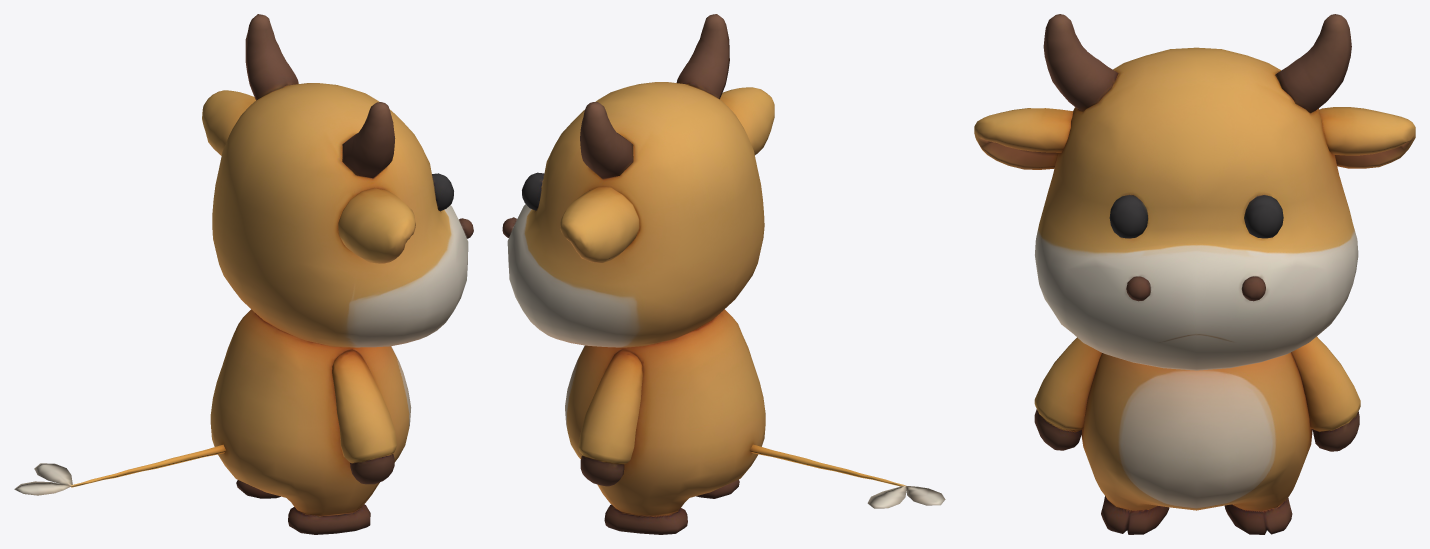
3 views of the same model, side by side, from view 1: azimuth 30°, elevation 25°; view 2: azimuth 150°, elevation 25°; view 3: azimuth 270°, elevation 25° (orthographic). The views are drawn at different scales.
Parts seen in each view (by area): view 1: tripo_node_14f2ad4a-8348-44ea-bd0e-69ca84de6e46; view 2: tripo_node_14f2ad4a-8348-44ea-bd0e-69ca84de6e46; view 3: tripo_node_14f2ad4a-8348-44ea-bd0e-69ca84de6e46.
Boxes of the visible parts, x1,y1,x2,y2 form: tripo_node_14f2ad4a-8348-44ea-bd0e-69ca84de6e46: (14,14,473,534); tripo_node_14f2ad4a-8348-44ea-bd0e-69ca84de6e46: (502,14,945,534); tripo_node_14f2ad4a-8348-44ea-bd0e-69ca84de6e46: (974,14,1415,534).
Size of the model in its own units: 0.998 by 0.998 by 0.7832.
Materials: 1 (1 with a texture image).
